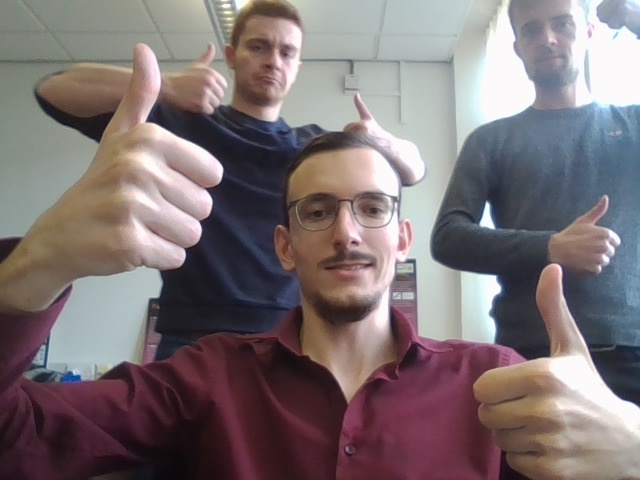thumbup: (47, 43, 225, 278), (465, 263, 638, 480), (163, 43, 228, 115), (564, 196, 619, 275)
